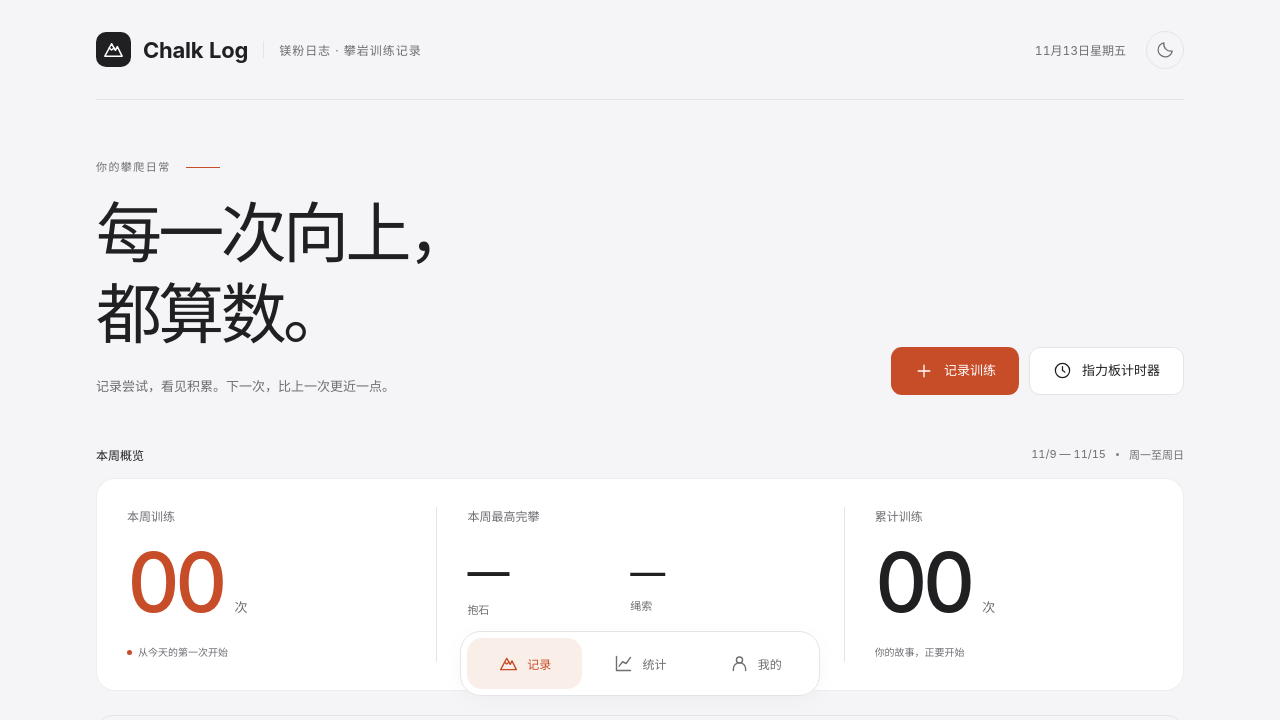
it: 指力板计时器 › 开始、暂停、继续、重置，并将完整计时预填为可保存的指力板训练
Later steps or results of the test are not shown.
Click the button "指力板计时器".
click(1106, 371)  # box top-left (1029, 347), bottom-right (1184, 395)
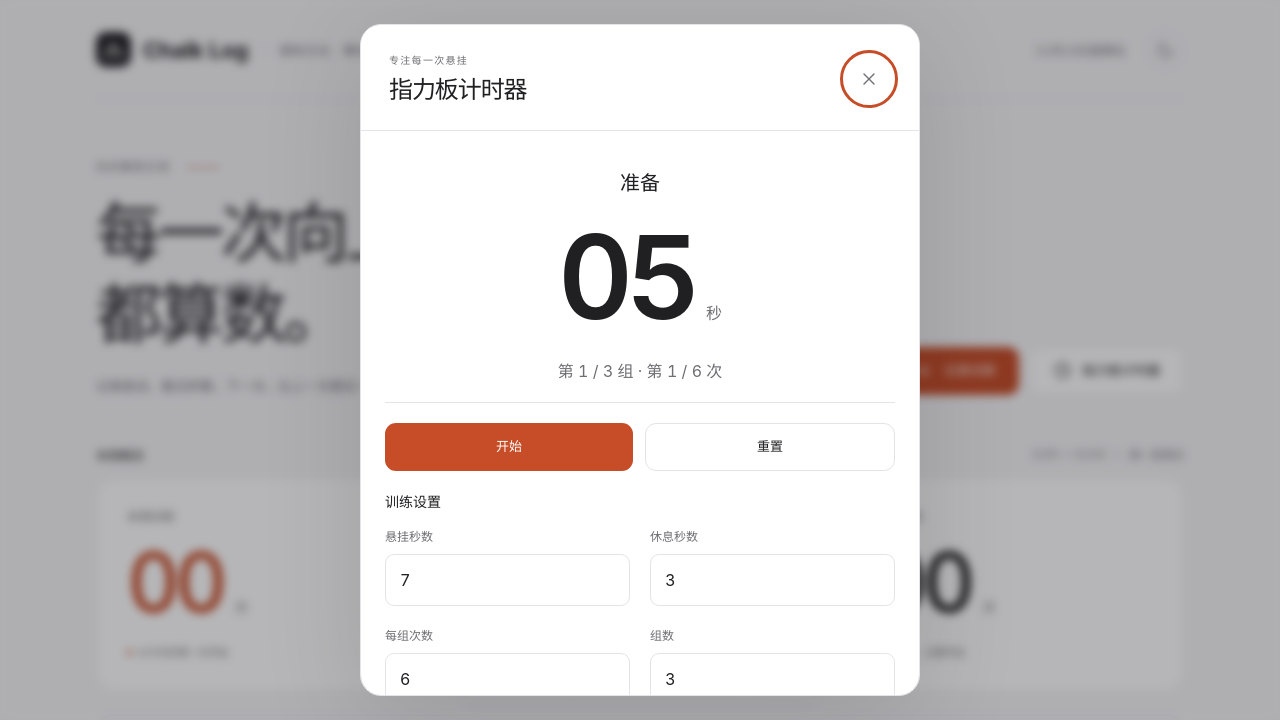
Replace the text in the number field labelled "悬挂秒数" with "2" at (508, 580), box top-left (385, 554), bottom-right (630, 606)
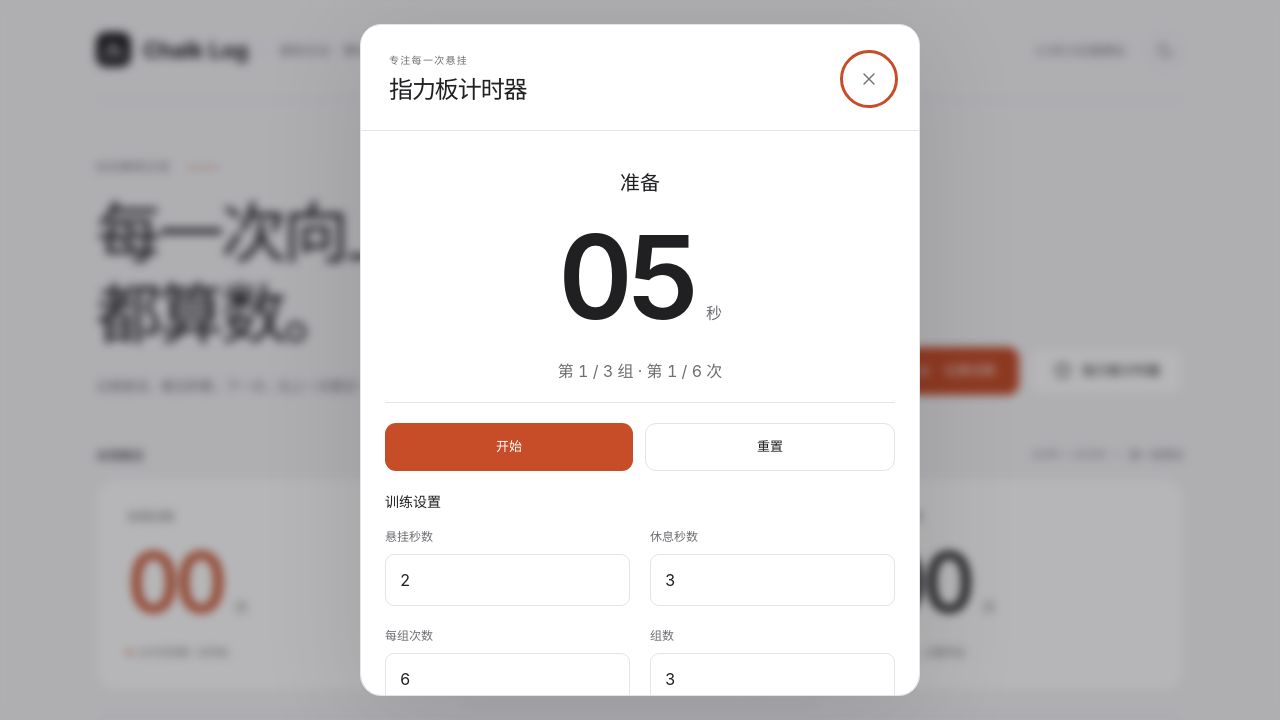
Replace the text in the number field labelled "休息秒数" with "1" at (772, 580), box top-left (650, 554), bottom-right (895, 606)
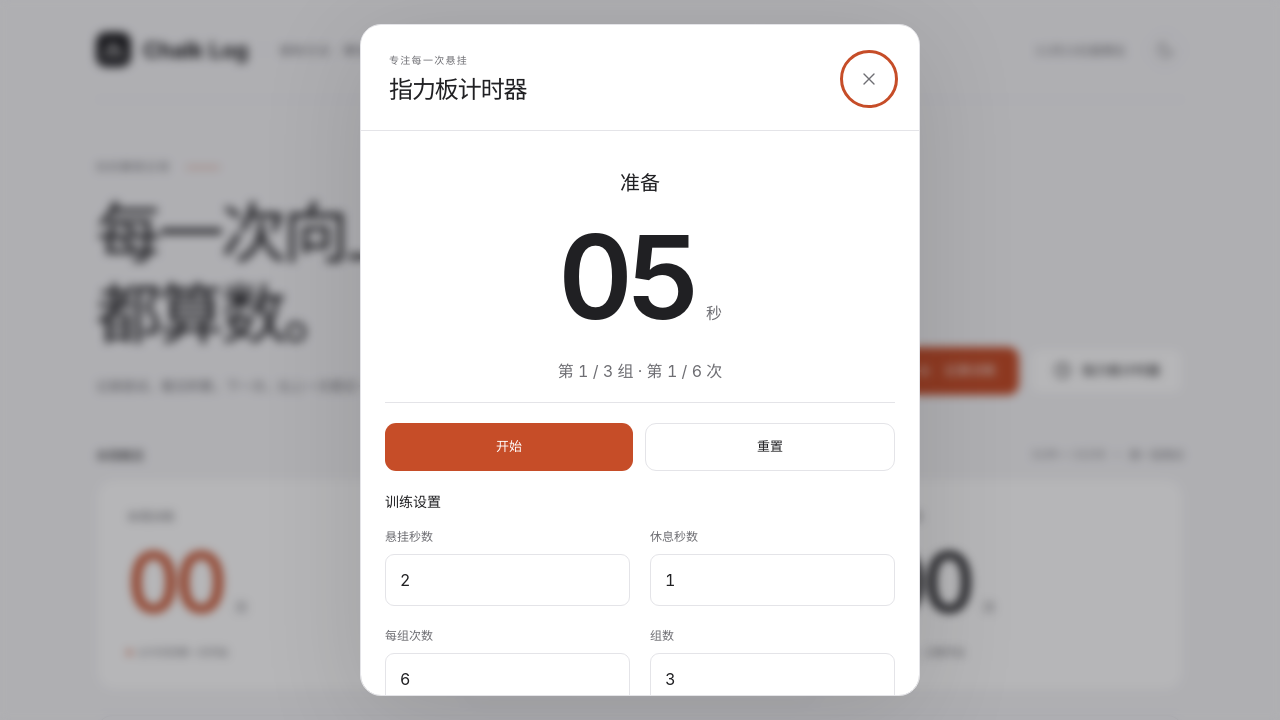
Replace the text in the number field labelled "每组次数" with "2" at (508, 679), box top-left (385, 653), bottom-right (630, 705)
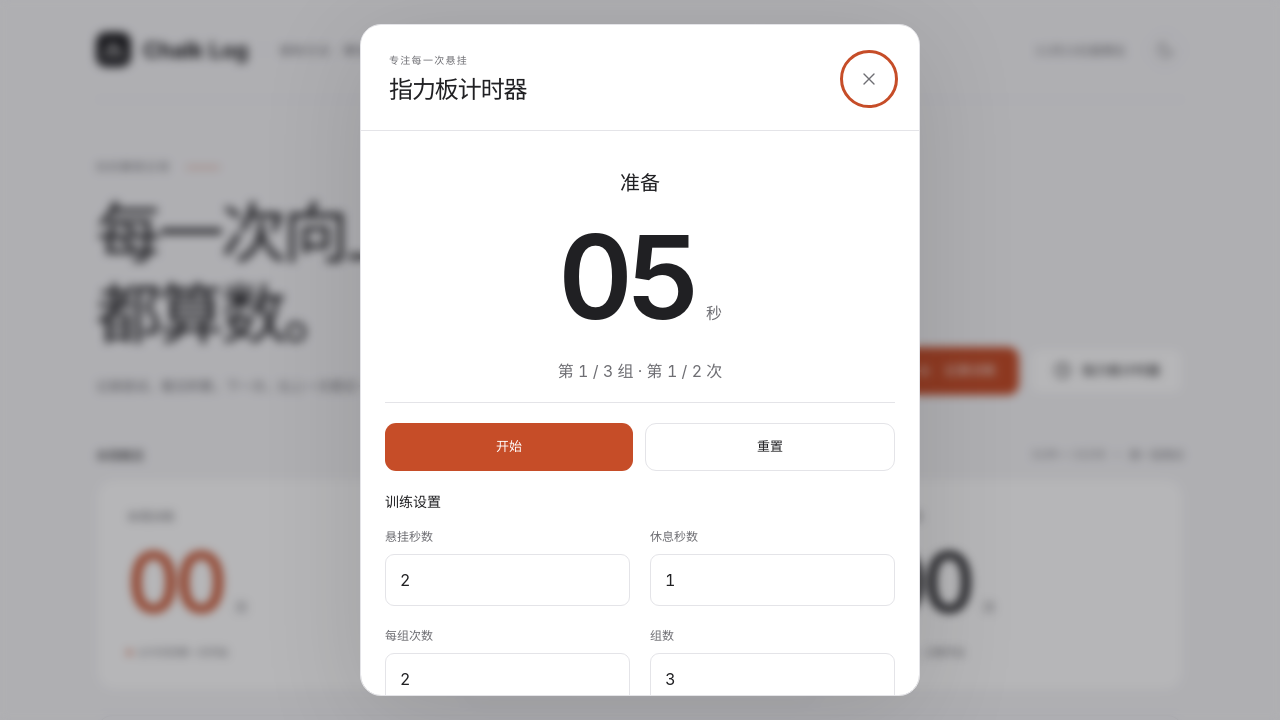
Replace the text in the number field labelled "组数" with "2" at (772, 679), box top-left (650, 653), bottom-right (895, 705)
(page scrolled)
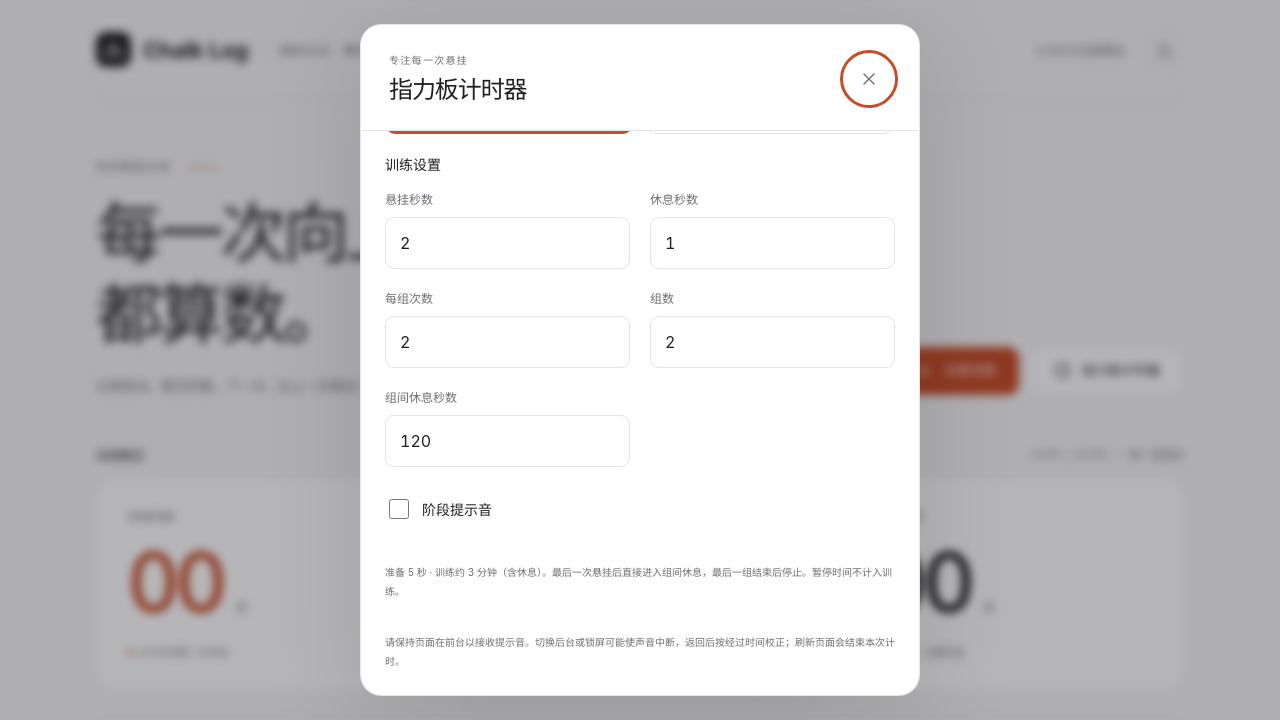
Replace the text in the number field labelled "组间休息秒数" with "3" at (508, 441), box top-left (385, 415), bottom-right (630, 467)
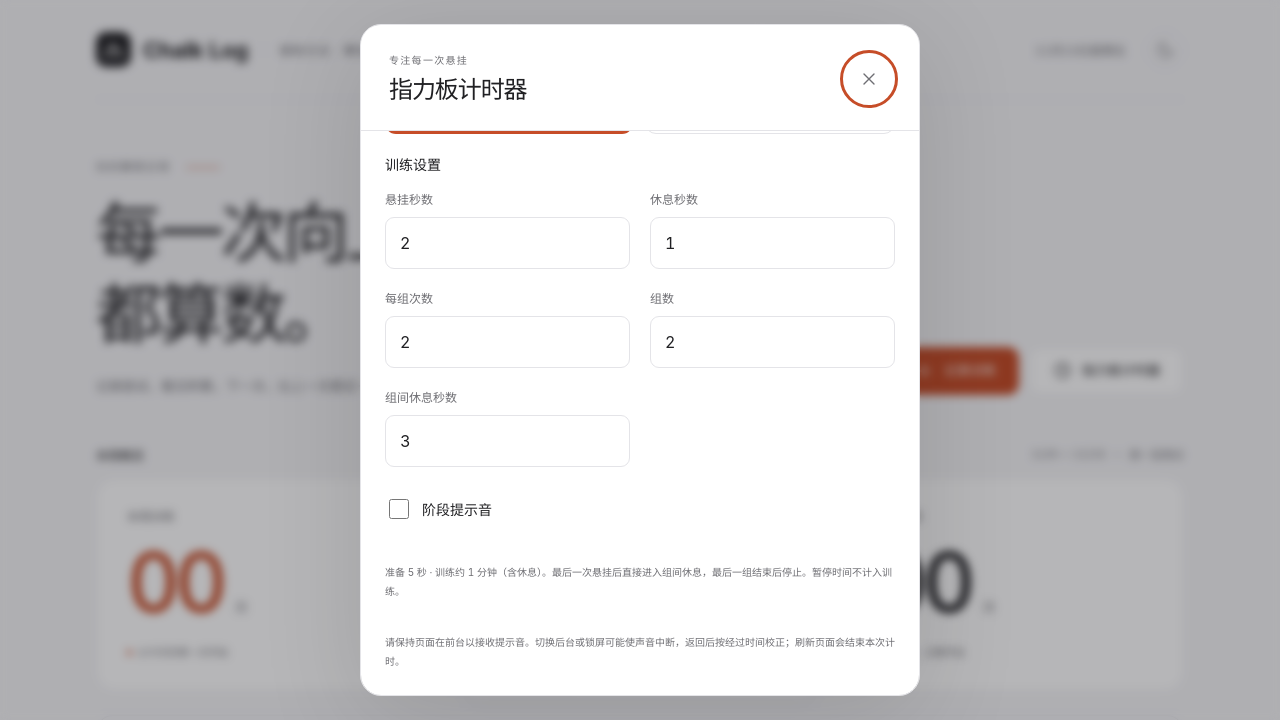
Now the checkbox labelled "阶段提示音" is not checked, box top-left (389, 499), bottom-right (409, 519)
